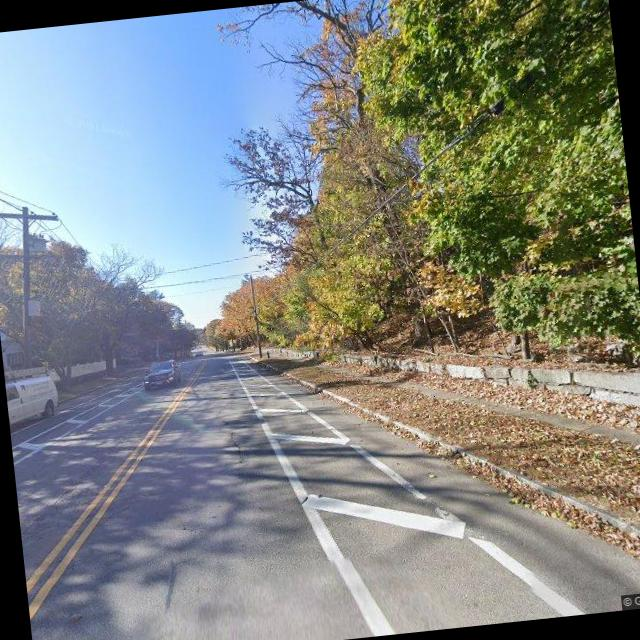pothole: (218, 412, 248, 468)
